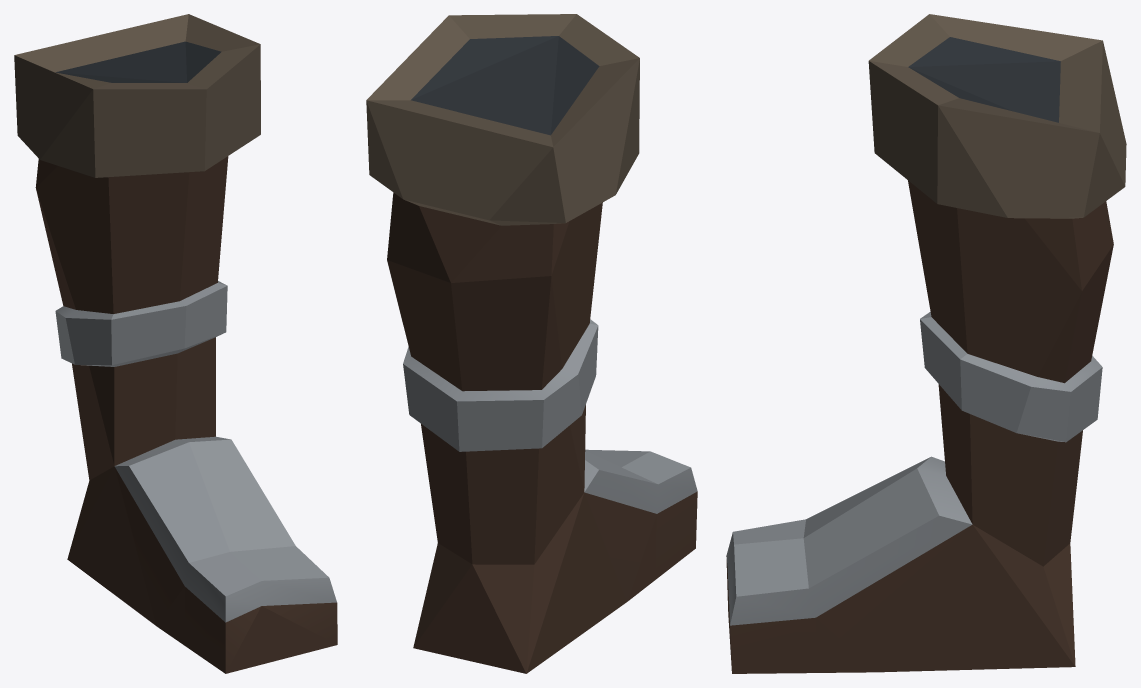
File: Chr_LegRight_Male_18_Static.fbx
3 renders of one model, left to right at view 1: azimuth 30°, elevation 25°; view 2: azimuth 150°, elevation 25°; view 3: azimuth 270°, elevation 25°, orthographic. The views are drawn at different scales.
Parts seen in each view (by area): view 1: Chr_LegRight_Male_18_Static; view 2: Chr_LegRight_Male_18_Static; view 3: Chr_LegRight_Male_18_Static.
Part boxes in pixels (x1,y1,x2,y2): Chr_LegRight_Male_18_Static: [14, 14, 337, 673]; Chr_LegRight_Male_18_Static: [366, 14, 697, 673]; Chr_LegRight_Male_18_Static: [726, 14, 1126, 673].
Size of the model in its own units: 0.1645 by 0.4099 by 0.2573.
